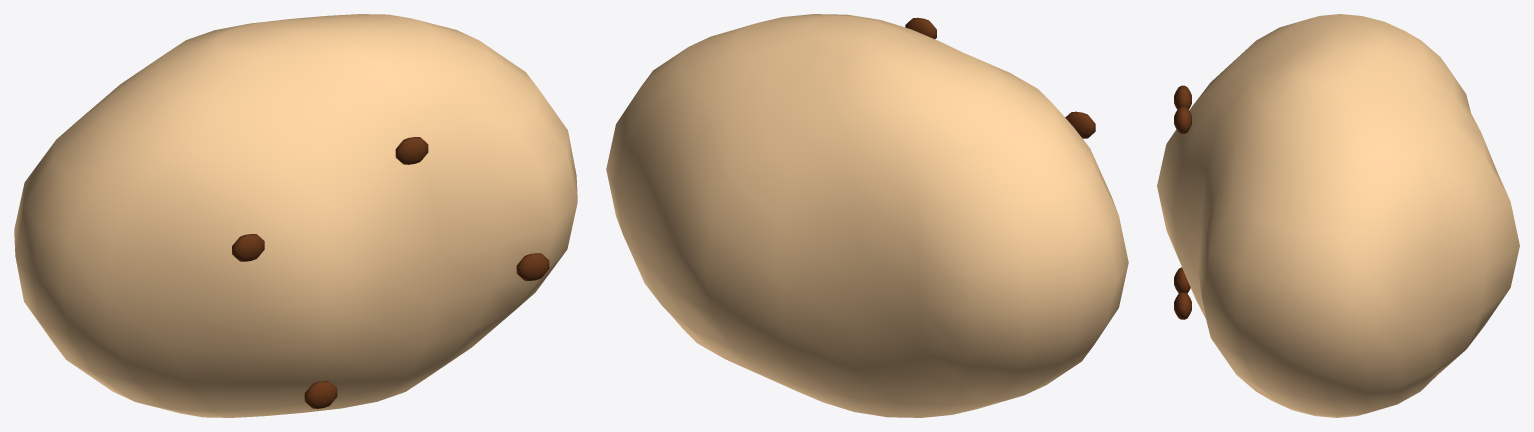
Rendered from potato.glb.
The picture shows the model from 3 angles, left to right: view 1: azimuth 30°, elevation 25°; view 2: azimuth 150°, elevation 25°; view 3: azimuth 270°, elevation 25°; orthographic projection. The views are drawn at different scales.
Parts seen in each view (by area): view 1: potato; view 2: potato; view 3: potato.
Part boxes in pixels (x1,y1,x2,y2): potato: [14, 14, 577, 417]; potato: [606, 14, 1128, 417]; potato: [1157, 14, 1519, 417].
Bounding box in the file's own units: 1 × 0.6744 × 0.6654.
1 material, 1 textured.
